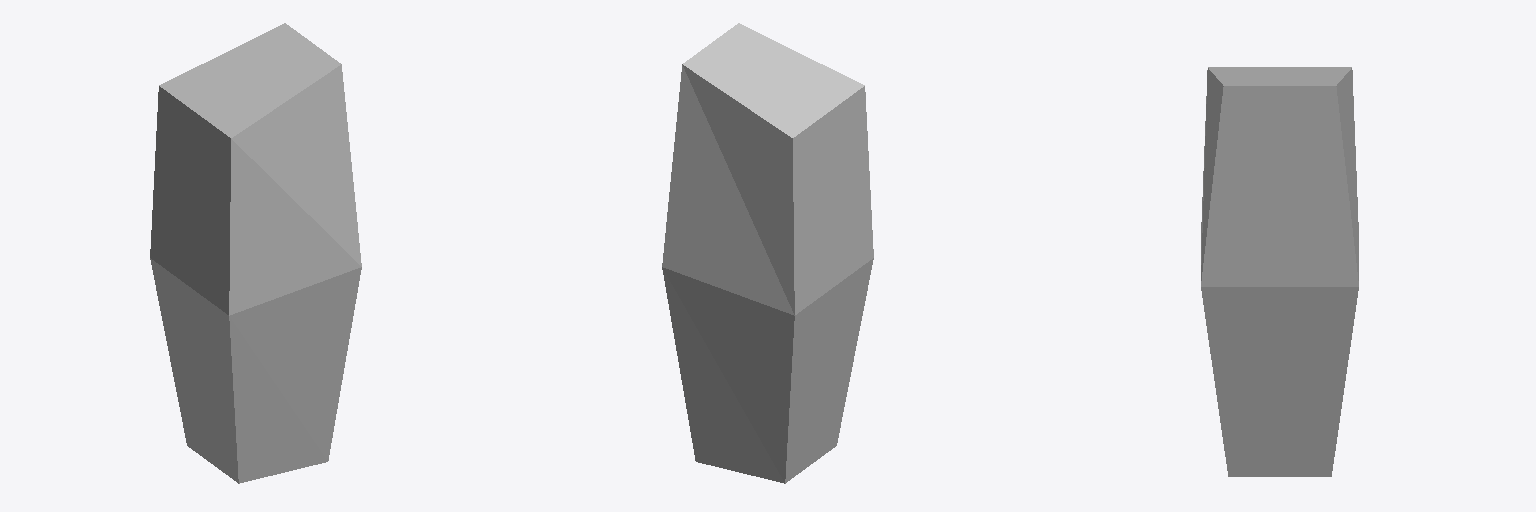
The model's file is KnightLeg1.obj.
3 renders of one model, left to right at view 1: azimuth 30°, elevation 25°; view 2: azimuth 150°, elevation 25°; view 3: azimuth 270°, elevation 25°, orthographic.
Parts seen in each view (by area): view 1: Cube.007; view 2: Cube.007; view 3: Cube.007.
Boxes of the visible parts, x1,y1,x2,y2 form: Cube.007: [150, 23, 361, 483]; Cube.007: [662, 23, 873, 483]; Cube.007: [1201, 67, 1358, 476].
Bounding box in the file's own units: 0.8469 × 2.42 × 0.8748.